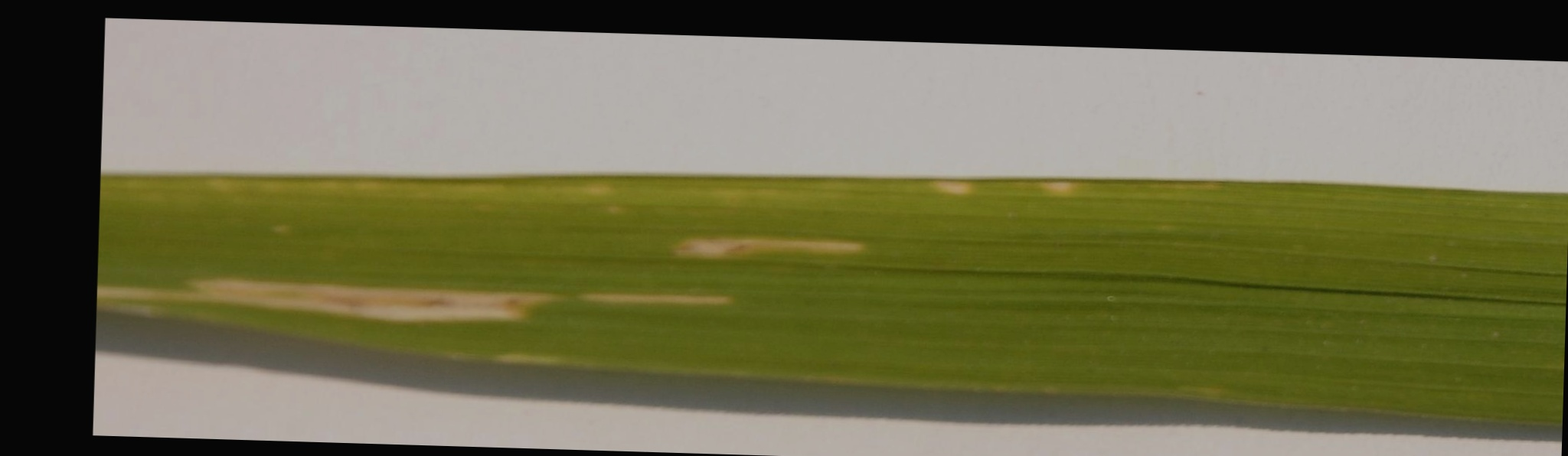Leaf_Blast: (145, 146, 1228, 254), (105, 255, 770, 365)
